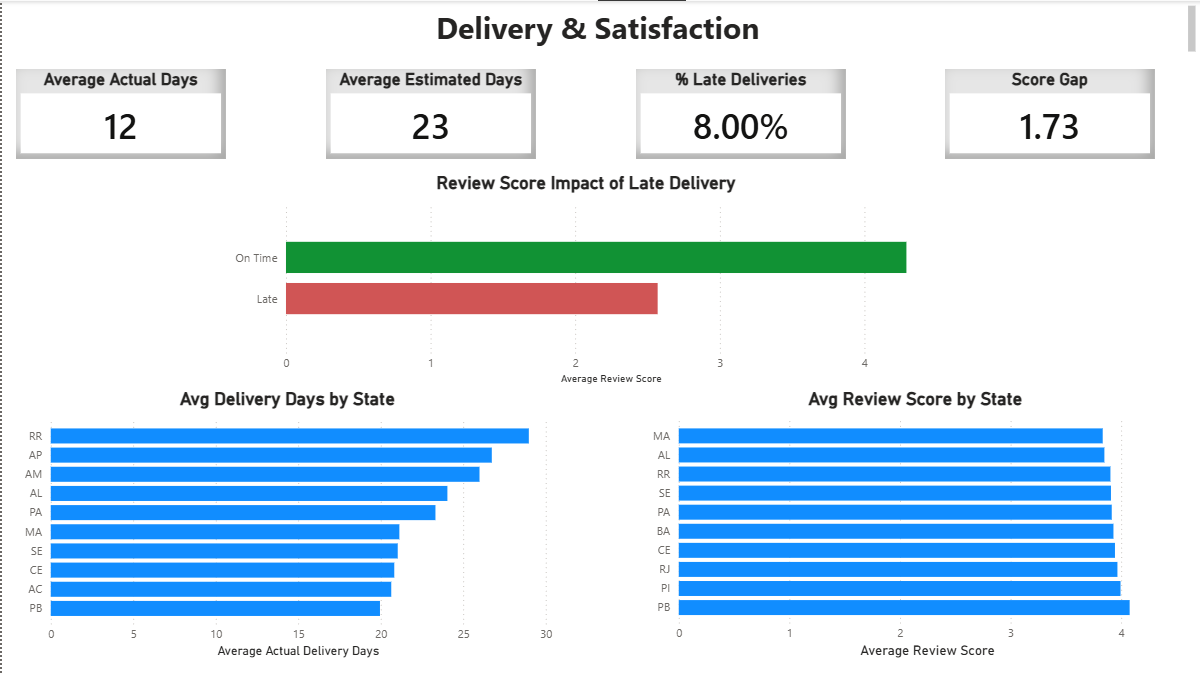

Layout of this report page (visuals, bound fields, positions):
{"tool":"powerbi","page":{"name":"Delivery & Satisfaction","canvas":[1280,720],"ordinal":2},"visuals":[{"type":"textbox","box":[0,0,1280,64],"z":0},{"type":"cardVisual","title":"Average Actual Days","fields":{"Data":["_Measures.Avg Actual Delivery Days"]},"box":[15.4,73,224,96],"z":1000},{"type":"cardVisual","title":"Average Estimated Days","fields":{"Data":["_Measures.Avg Estimated Delivery Days"]},"box":[346.1,73,224,96],"z":2000},{"type":"cardVisual","title":"% Late Deliveries","fields":{"Data":["_Measures.% Late Deliveries"]},"box":[676.8,73,224,96],"z":3000},{"type":"cardVisual","title":"Score Gap","fields":{"Data":["_Measures.Review Score Gap"]},"box":[1007.4,73,224,96],"z":4000},{"type":"clusteredBarChart","title":"Review Score Impact of Late Delivery","fields":{"Category":["olist analysis_late_delivery_impact.delivery_status"],"Y":["Sum(olist analysis_late_delivery_impact.average_review_score)"]},"box":[240.3,182.5,767.2,231.3],"z":5000},{"type":"barChart","title":"Avg Delivery Days by State","fields":{"Category":["olist analysis_delivery_time_per_order.customer_state"],"Y":["Avg(olist analysis_delivery_time_per_order.Actual_delivery_days)"]},"box":[16.7,413.8,575.7,293],"z":6000},{"type":"barChart","title":"Avg Review Score by State","fields":{"Category":["olist analysis_review_by_delivery_status_raw.customer_state"],"Y":["Avg(olist analysis_review_by_delivery_status_raw.review_score)"]},"box":[687.6,413.8,575.7,293],"z":7000}]}

Visuals, with their boxes in screenshot pixels (x1, y1, x2, y2), scaled from the page's 1280x720 canvas onto the 1200x674 screenshot:
textbox: bbox(0, 0, 1199, 60)
"Average Actual Days" cardVisual: bbox(14, 68, 224, 158)
"Average Estimated Days" cardVisual: bbox(324, 68, 534, 158)
"% Late Deliveries" cardVisual: bbox(634, 68, 844, 158)
"Score Gap" cardVisual: bbox(944, 68, 1154, 158)
"Review Score Impact of Late Delivery" clusteredBarChart: bbox(225, 171, 945, 387)
"Avg Delivery Days by State" barChart: bbox(16, 387, 555, 662)
"Avg Review Score by State" barChart: bbox(645, 387, 1184, 662)
